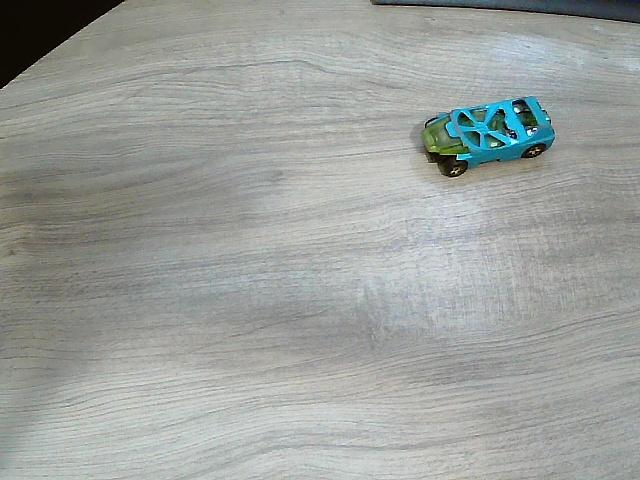Carro: (422, 97, 557, 177)
